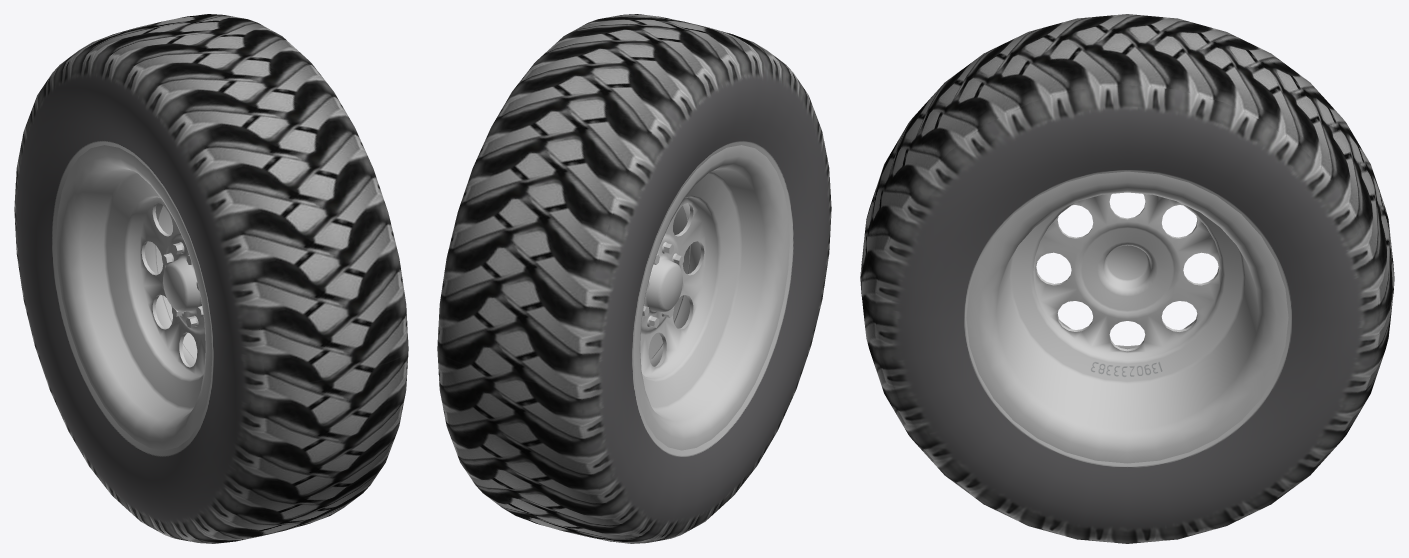
The model's file is wheel.dae.
3 renders of one model, left to right at view 1: azimuth 30°, elevation 25°; view 2: azimuth 150°, elevation 25°; view 3: azimuth 270°, elevation 25°, orthographic.
Visible parts, largest first — view 1: Sleeve, Rim; view 2: Sleeve, Rim; view 3: Sleeve, Rim.
Part boxes in pixels (left/top/right/bottom): Sleeve: left=14, top=14, right=408, bottom=543; Rim: left=56, top=145, right=212, bottom=450; Sleeve: left=437, top=14, right=831, bottom=543; Rim: left=633, top=145, right=789, bottom=450; Sleeve: left=860, top=14, right=1394, bottom=543; Rim: left=966, top=171, right=1288, bottom=463.
Size of the model in its own units: 0.3748 by 1.02 by 1.02.
